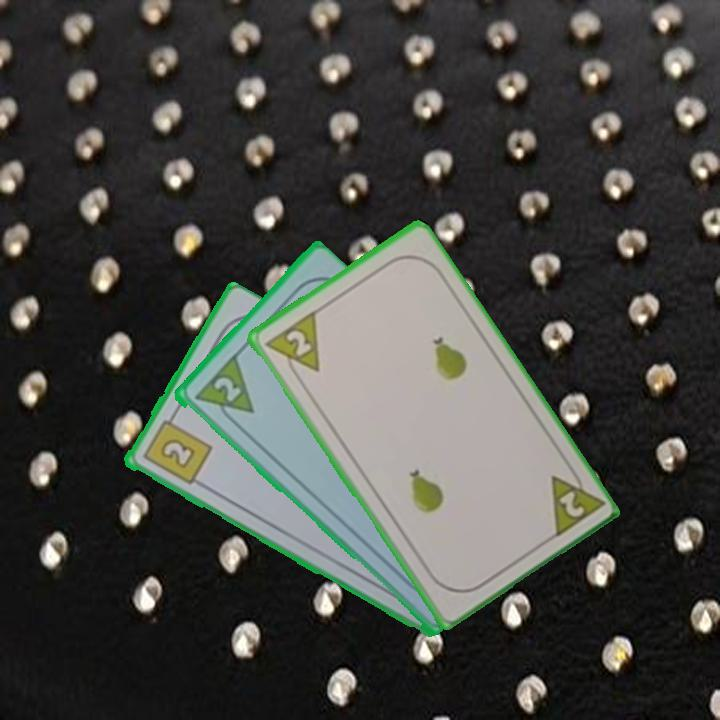2b: (138, 409, 214, 488)
2p: (261, 307, 323, 386), (546, 461, 605, 542), (209, 373, 244, 406)
